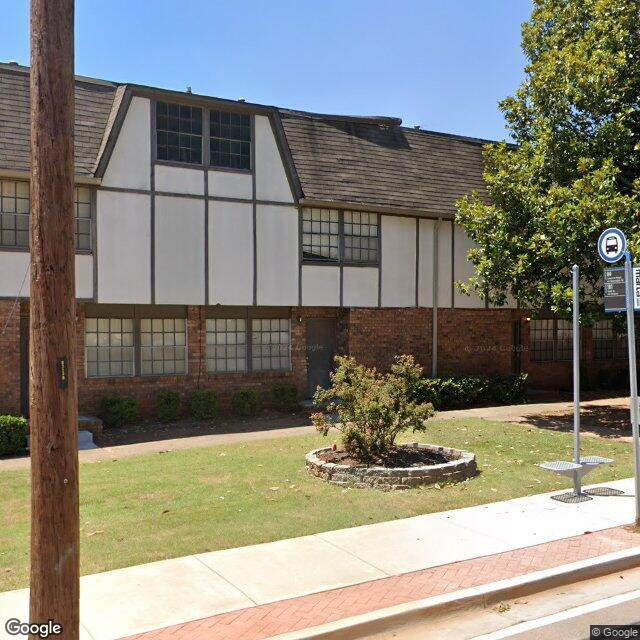seating: (537, 453, 615, 481)
